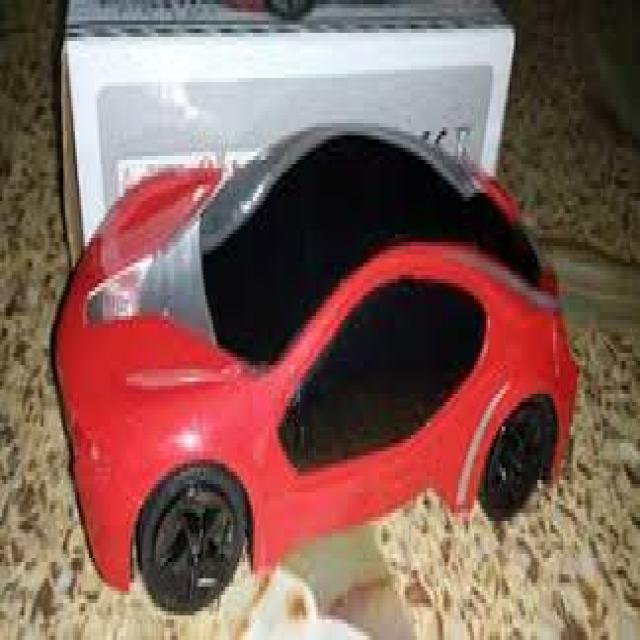Car: (49, 119, 579, 611)
